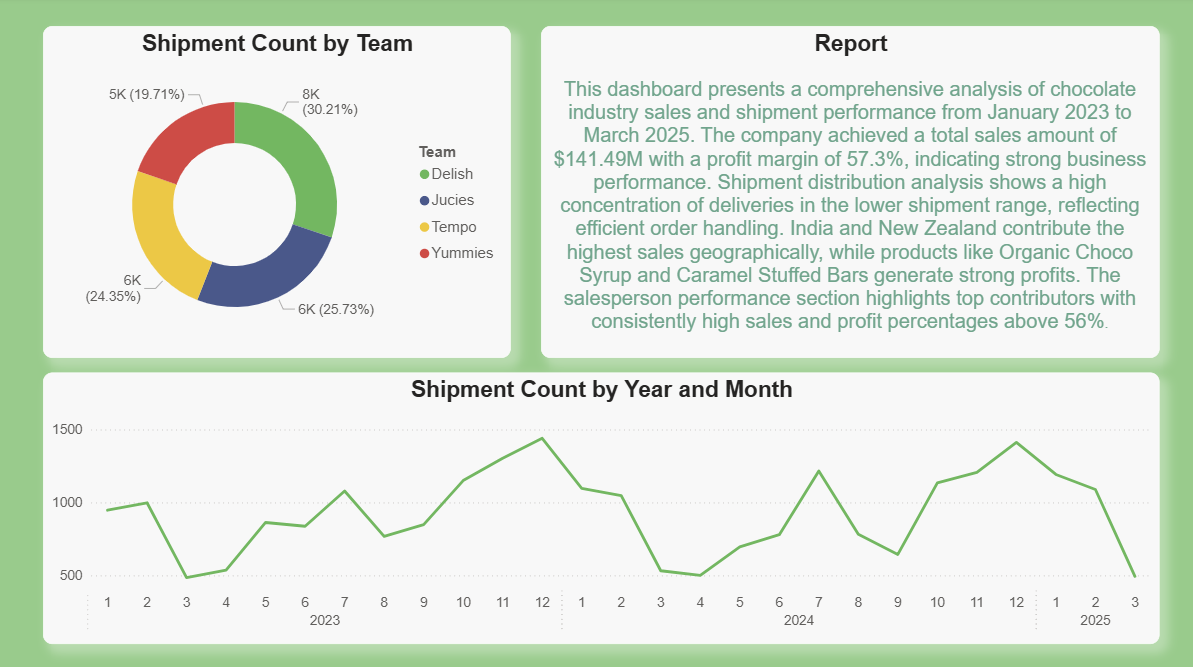

This screenshot's page, from the dashboard's own definition file:
{"tool":"powerbi","page":{"name":"Report","canvas":[1280,720],"ordinal":9},"visuals":[{"type":"textbox","title":"Report","box":[576,32,656,352],"z":0},{"type":"donutChart","fields":{"Category":["people.Team"],"Y":["shipments.Shipment Count"]},"box":[48,32,496,352],"z":1},{"type":"lineChart","title":"Shipment Count by Year and Month","fields":{"Y":["shipments.Shipment Count"],"Category":["calendar.year","calendar.Month_num"]},"box":[48,400,1184,288],"z":2}]}

Visuals, with their boxes in screenshot pixels (x1, y1, x2, y2), scaled from the page's 1280x720 canvas onto the 1193x667 screenshot:
"Report" textbox: region(537, 30, 1148, 356)
donutChart - people.Team x shipments.Shipment Count: region(45, 30, 507, 356)
"Shipment Count by Year and Month" lineChart: region(45, 371, 1148, 637)
